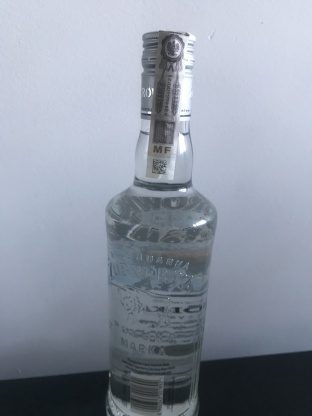nakretka: (137, 25, 198, 125)
